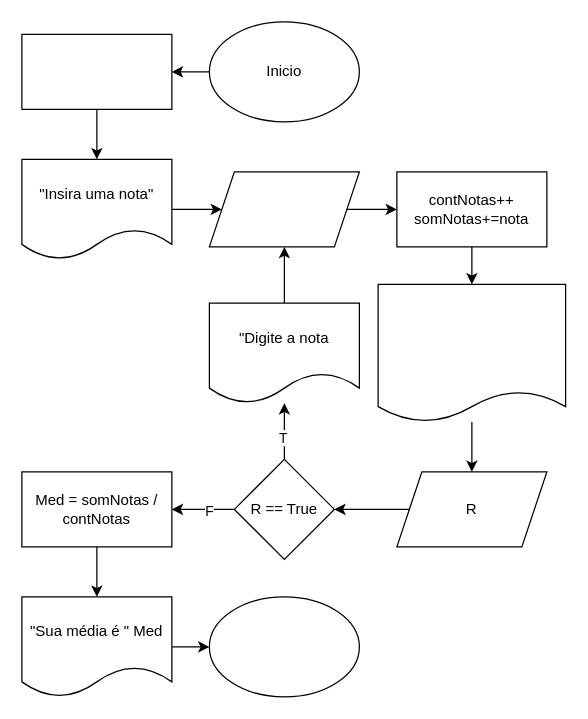
Some shapes in this 588 by 719 pixel diagram are drawn without their labels. Here are the shapes that lost their labels. From the top down, the centre of each, then its label:
(96,71): somNotas = 0 contNotas = 0
(283,209): nota
(471,352): "Deseja inserir mais uma nota? Notas Digitadas: " contNotas
(283,646): Fim
